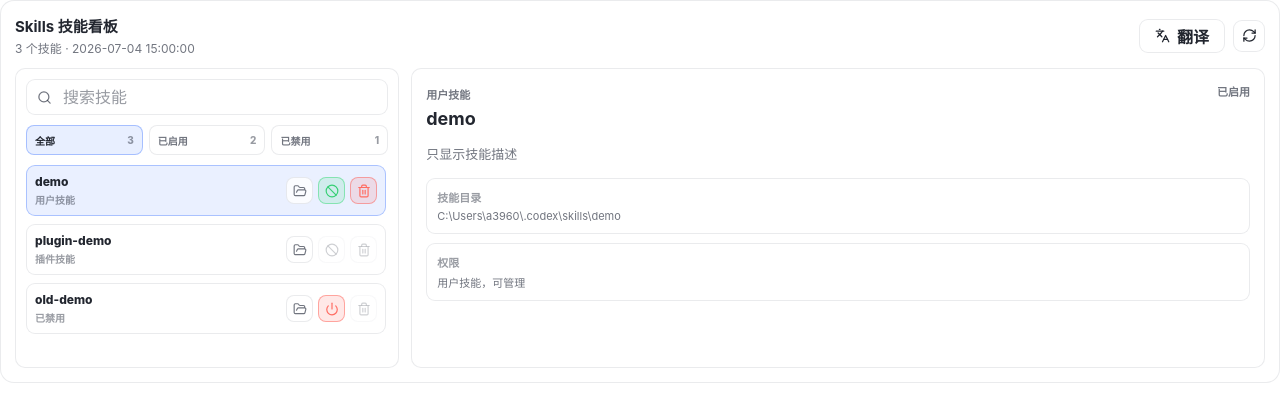
it: SkillsBoard › disables an enabled skill without a blocking confirm dialog
Expected: the heading "Skills 技能看板" is shown, [15,17,118,36]
Click the button named "禁用 demo". click: [332, 190]
box: [318,177,345,204]
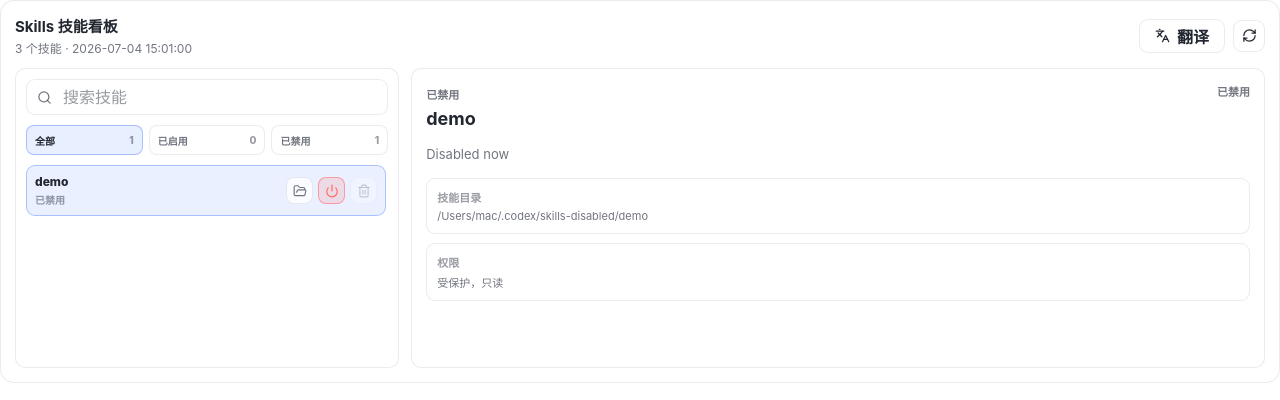
Result: the text "Disabled now" is shown at [426,146,509,162]
